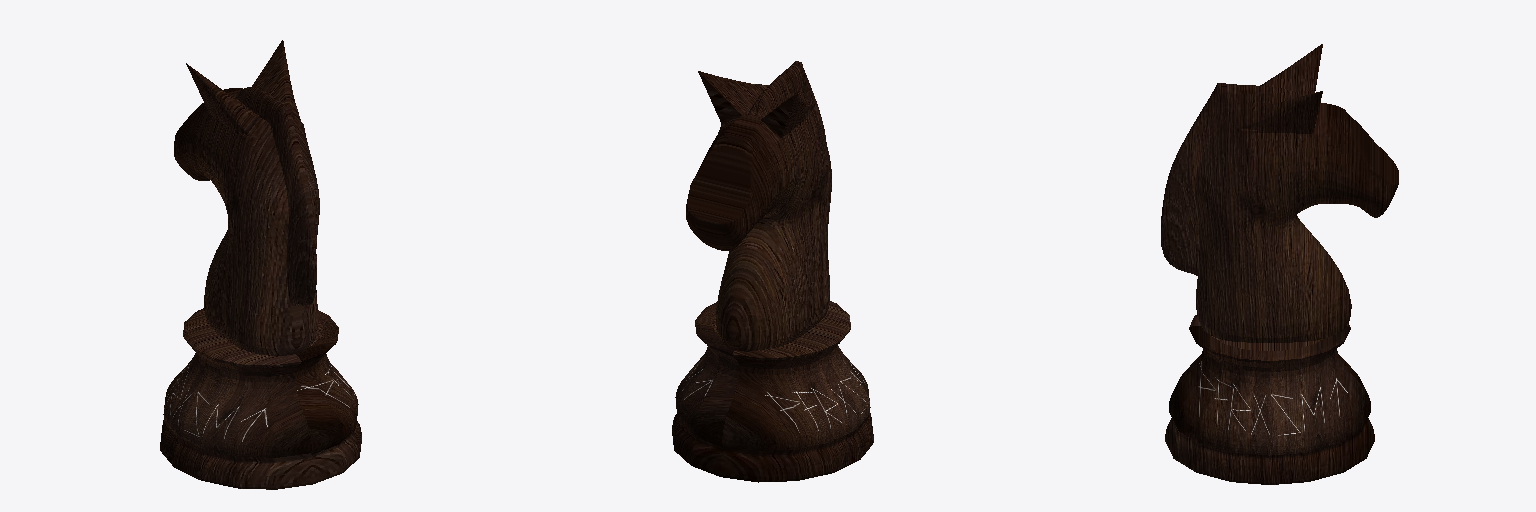
3 views of the same model, side by side, from view 1: azimuth 30°, elevation 25°; view 2: azimuth 150°, elevation 25°; view 3: azimuth 270°, elevation 25° (orthographic).
Visible parts, largest first — view 1: Caballo; view 2: Caballo; view 3: Caballo.
Boxes of the visible parts, x1=… form: Caballo: x1=160, y1=40, x2=361, y2=489; Caballo: x1=672, y1=61, x2=873, y2=482; Caballo: x1=1161, y1=44, x2=1398, y2=484.
Bounding box in the file's own units: 0.373 × 0.7685 × 0.4406.
Materials: 2 (2 with a texture image).